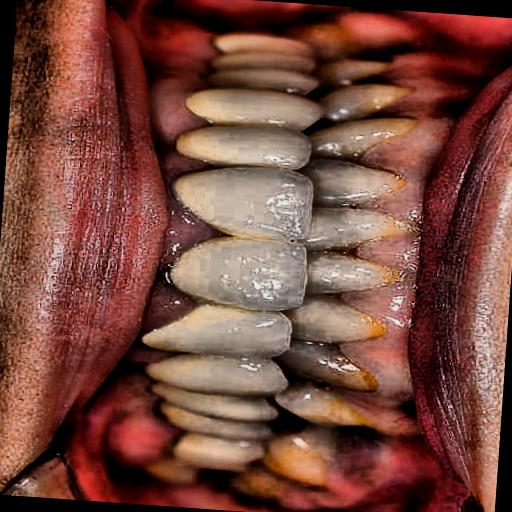Calculus: (322, 90, 452, 464)
